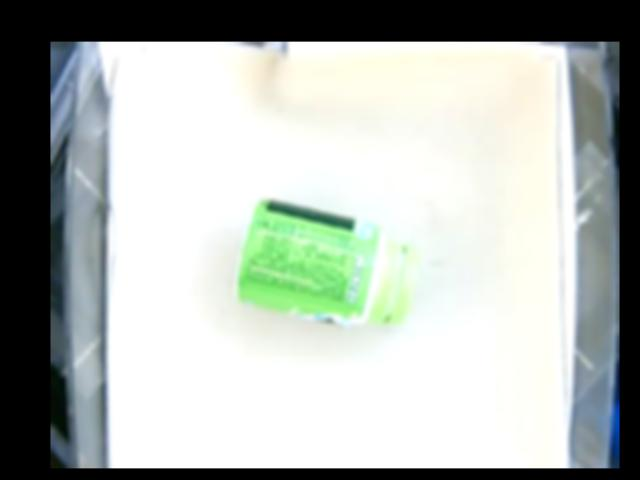Bottle: (235, 193, 420, 329)
